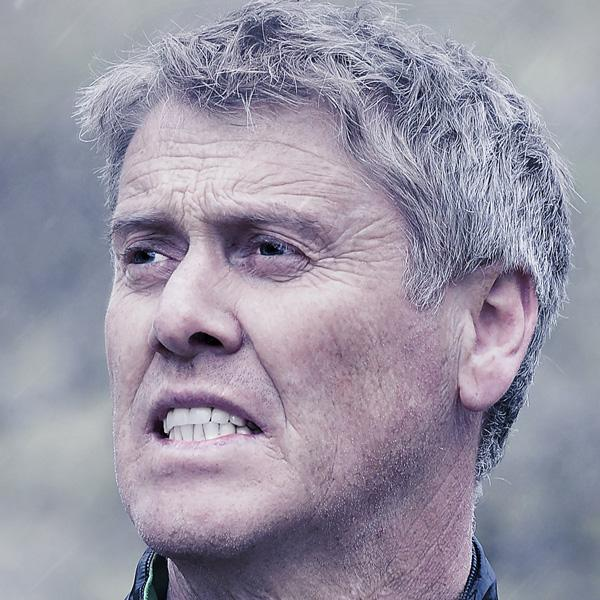Eyes: (224, 222, 328, 277), (111, 228, 191, 286)
